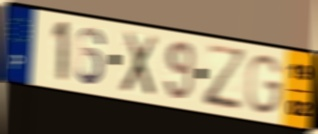1: (51, 19, 71, 85)
6: (75, 26, 106, 87)
9: (163, 38, 196, 103)
G: (246, 52, 286, 117)
X: (118, 29, 159, 99)
Z: (202, 42, 249, 112)
